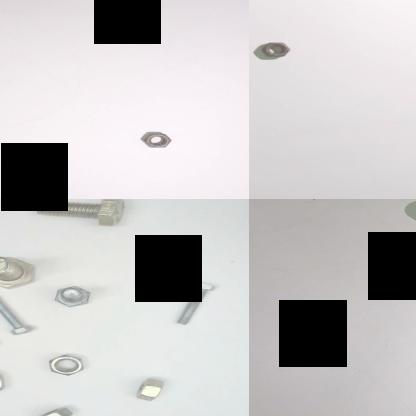Bolts: (156, 276, 224, 326), (36, 199, 138, 230), (0, 291, 39, 337), (0, 251, 43, 291), (50, 282, 96, 314)
NUTS: (120, 372, 175, 404), (36, 350, 92, 380), (138, 129, 174, 150), (32, 402, 79, 416), (260, 40, 292, 58), (0, 363, 14, 401)
